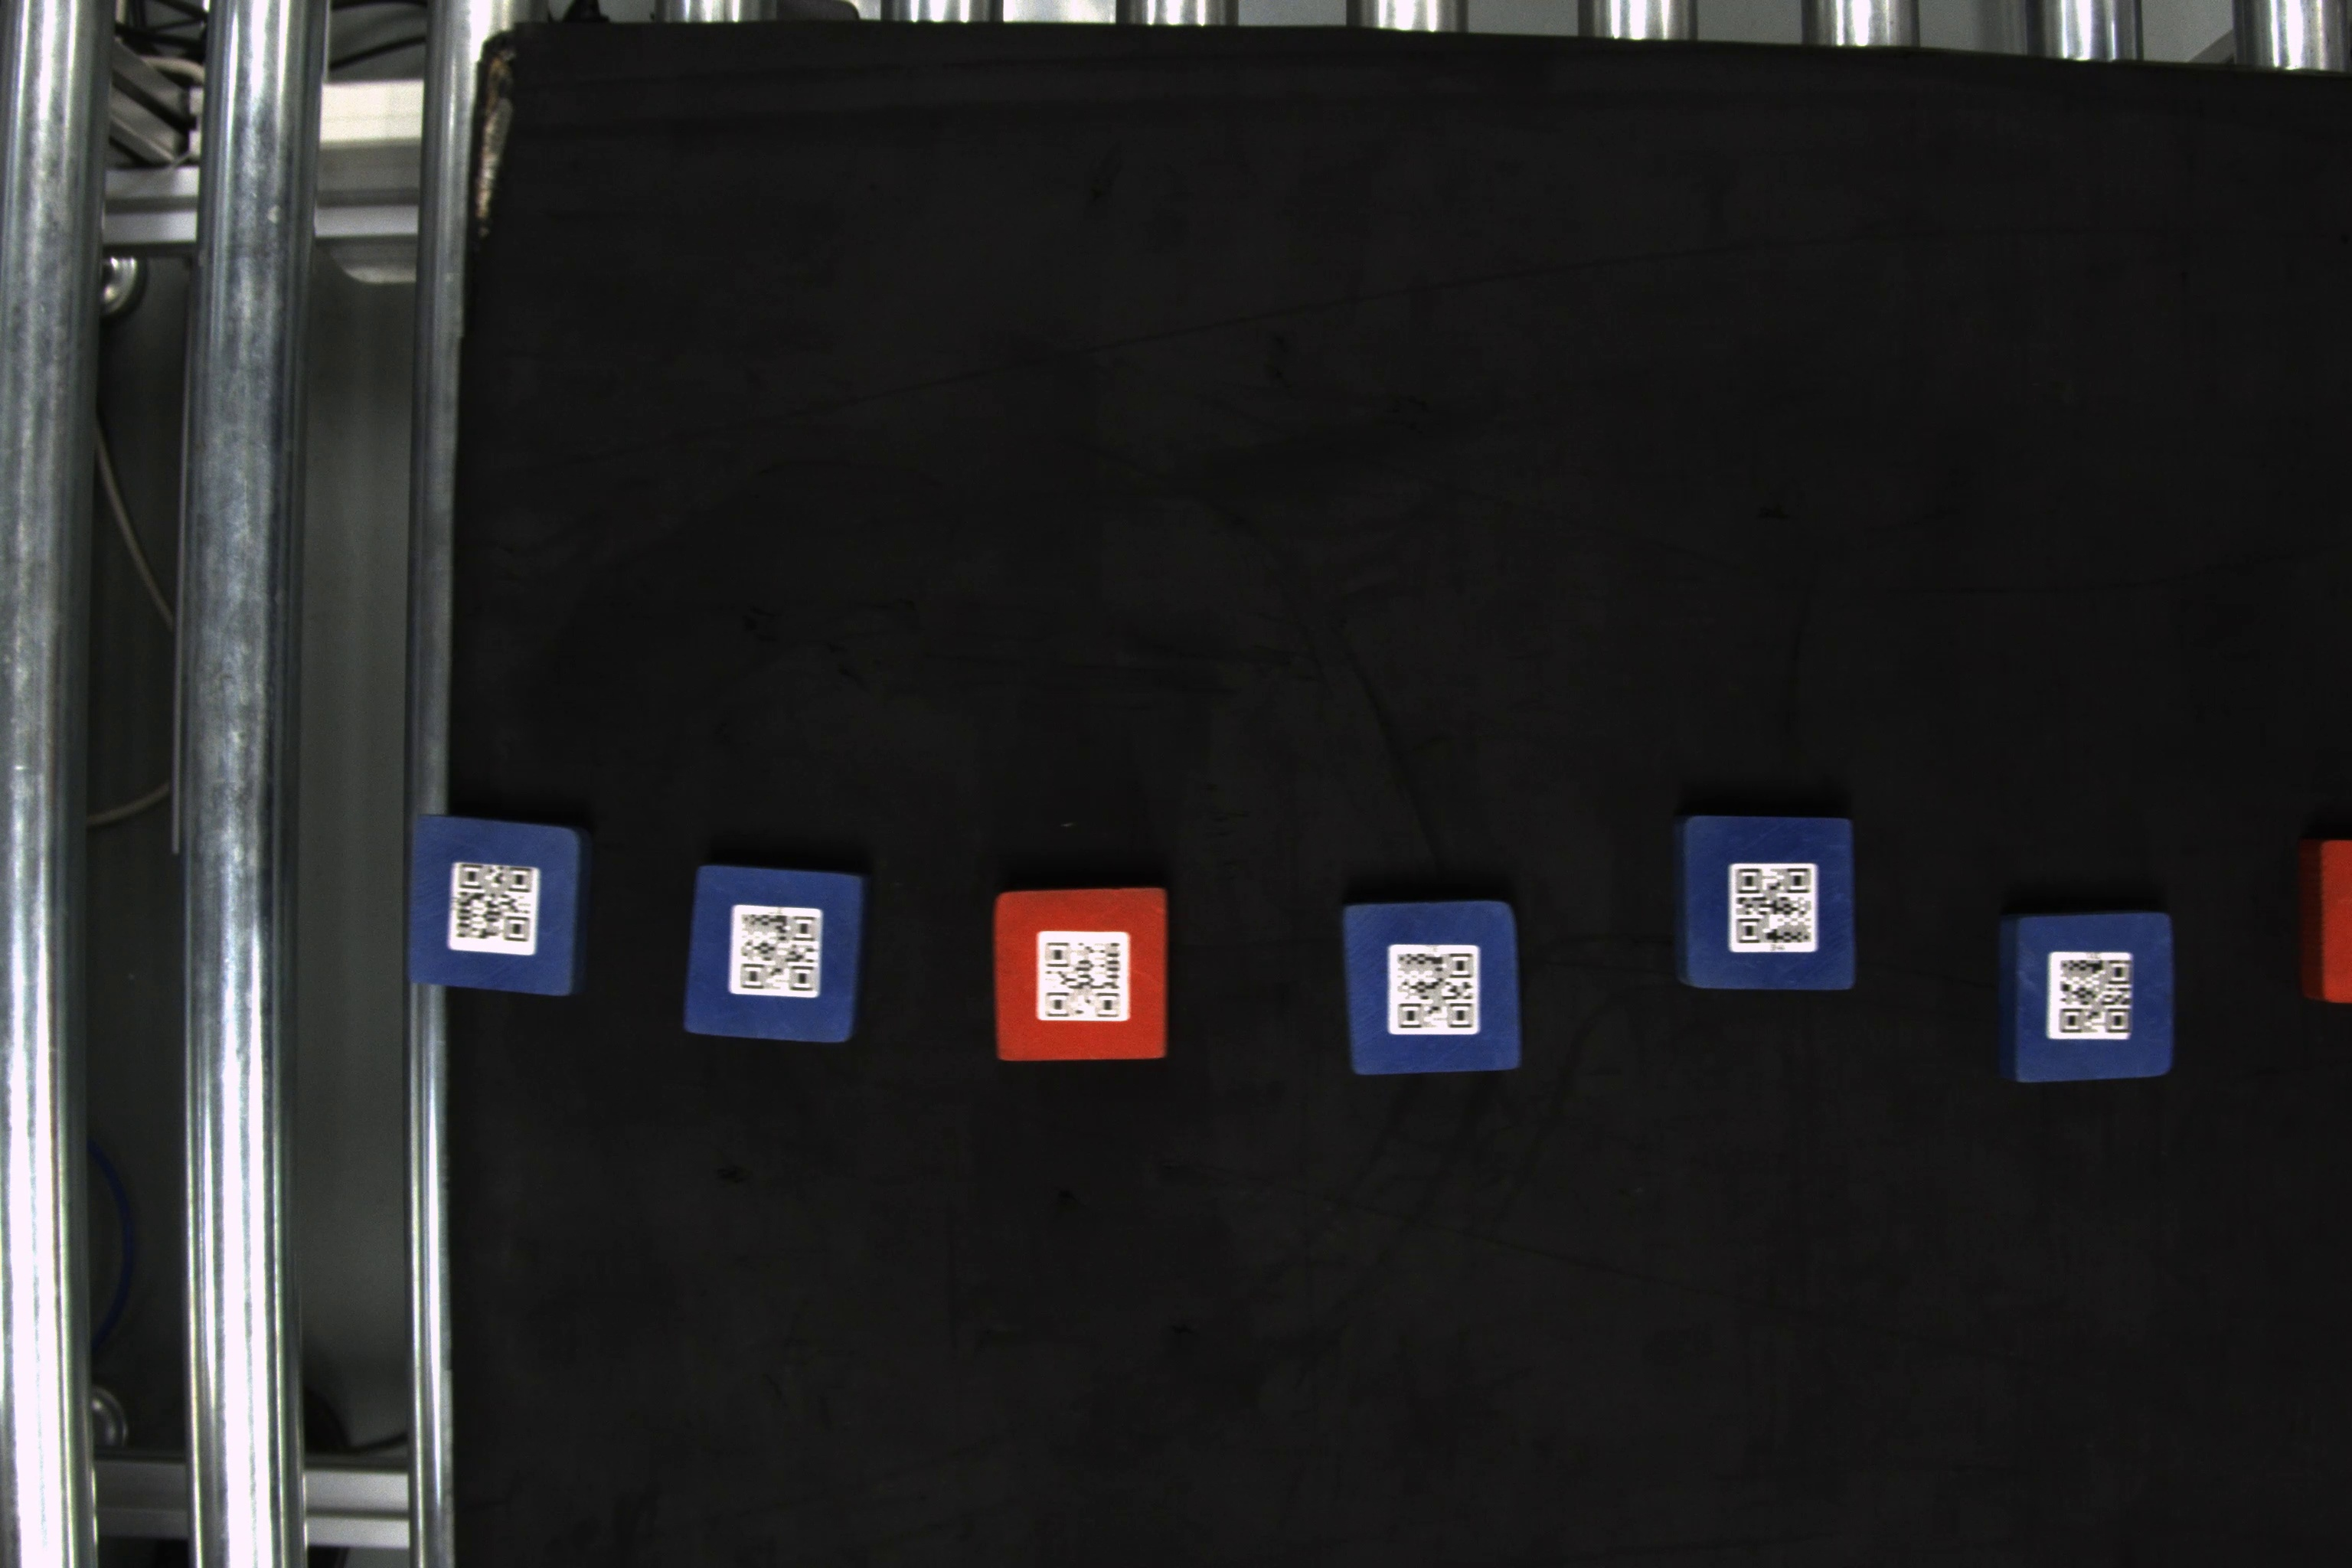wood: (404, 814, 595, 997), (684, 864, 875, 1048), (1673, 810, 1858, 996), (1337, 899, 1526, 1078), (992, 885, 1172, 1066), (1991, 913, 2173, 1085)
